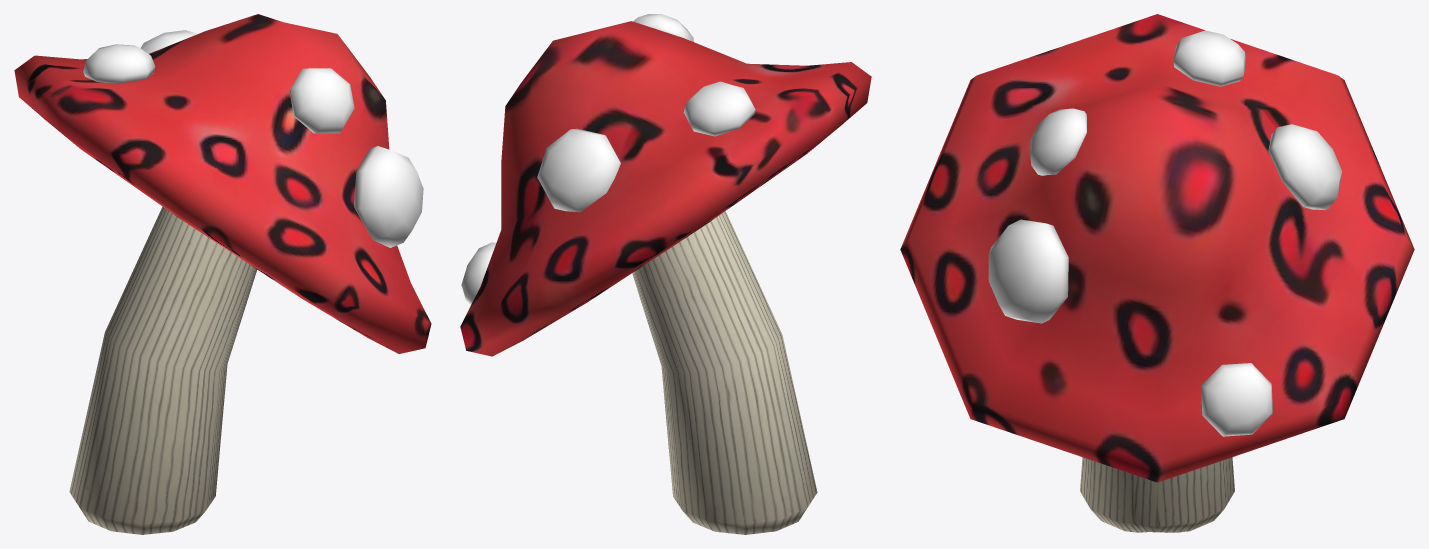
File: Mushroom_ForestProp_001.fbx
3 renders of one model, left to right at view 1: azimuth 30°, elevation 25°; view 2: azimuth 150°, elevation 25°; view 3: azimuth 270°, elevation 25°, orthographic. The views are drawn at different scales.
Visible parts, largest first — view 1: Mushroom; view 2: Mushroom; view 3: Mushroom.
Boxes of the visible parts, x1,y1,x2,y2 form: Mushroom: [14, 14, 431, 534]; Mushroom: [460, 14, 871, 534]; Mushroom: [900, 14, 1414, 532].
Bounding box in the file's own units: 133 × 177 × 170.
Materials: 1 (1 with a texture image).
